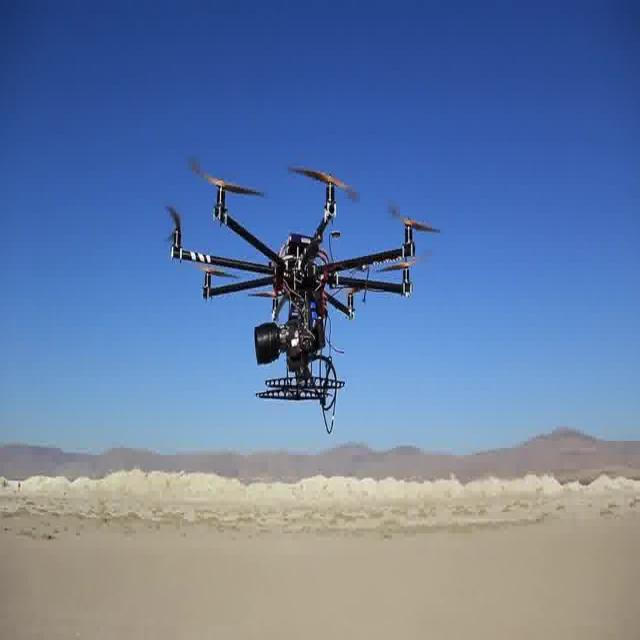drone: (161, 144, 438, 438)
